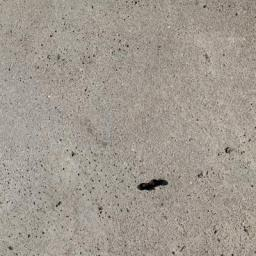FOD: (136, 174, 172, 194)
